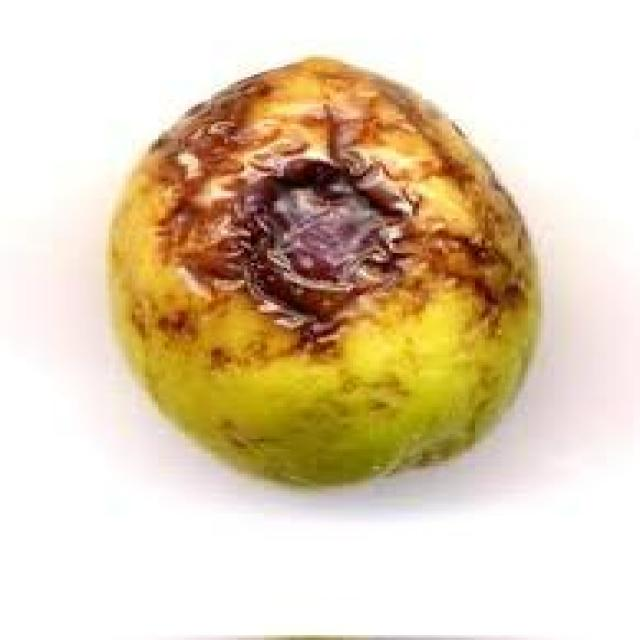Olive Fruit Fly: (109, 57, 531, 484)
